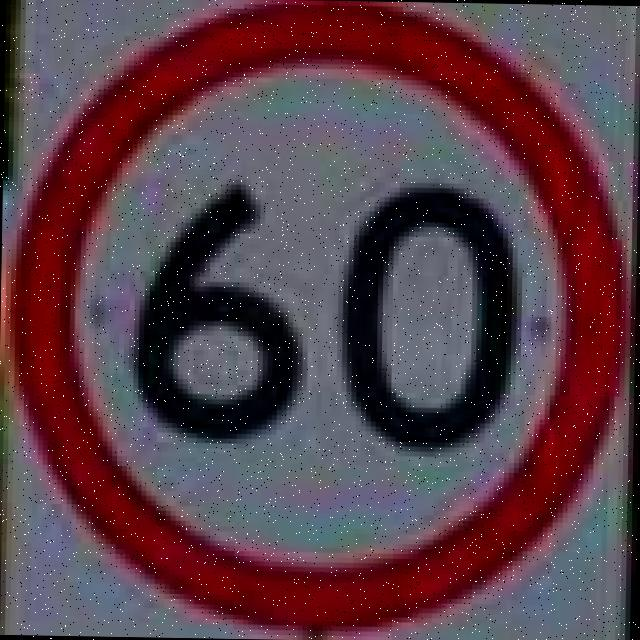Ograniczenie predkosci do 60: (4, 0, 640, 621)
